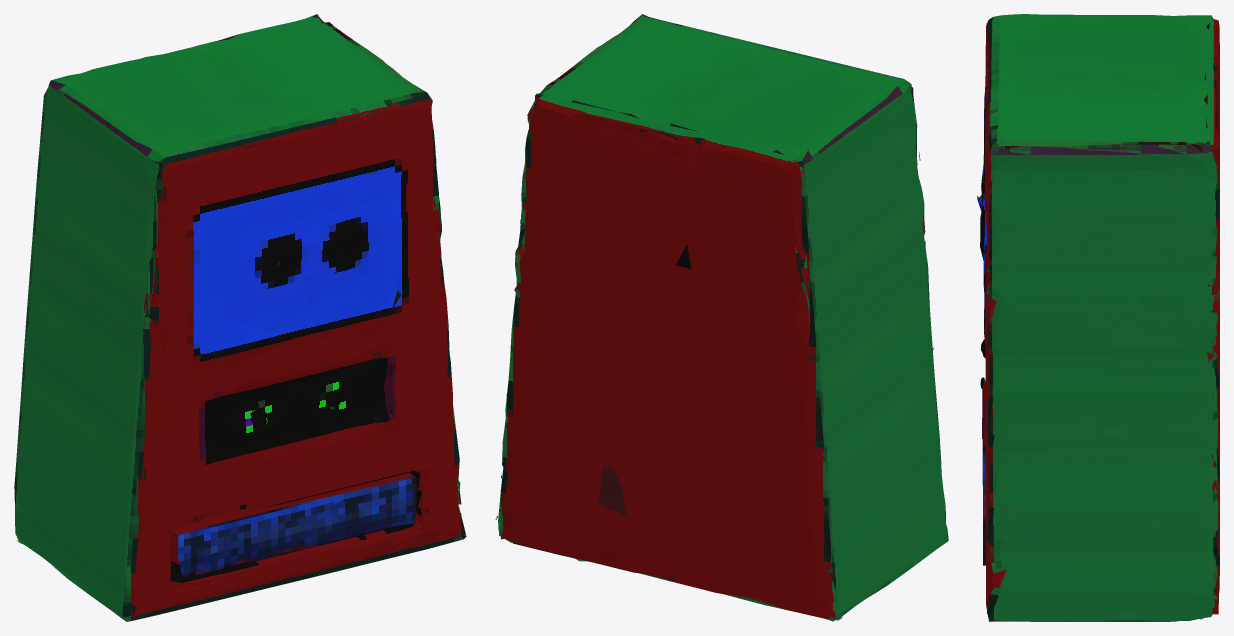
The model's file is Arcade_BombSorter_QuadRetro.glb.
3 renders of one model, left to right at view 1: azimuth 30°, elevation 25°; view 2: azimuth 150°, elevation 25°; view 3: azimuth 270°, elevation 25°, orthographic.
Parts seen in each view (by area): view 1: Arcade_BombSorter_QuadRemesh; view 2: Arcade_BombSorter_QuadRemesh; view 3: Arcade_BombSorter_QuadRemesh.
Boxes of the visible parts, left/top/right/bottom form: Arcade_BombSorter_QuadRemesh: left=14, top=14, right=466, bottom=621; Arcade_BombSorter_QuadRemesh: left=495, top=14, right=948, bottom=621; Arcade_BombSorter_QuadRemesh: left=977, top=14, right=1219, bottom=621.
Size of the model in its own units: 1.58 by 2 by 0.9557.
Materials: 1 (1 with a texture image).
